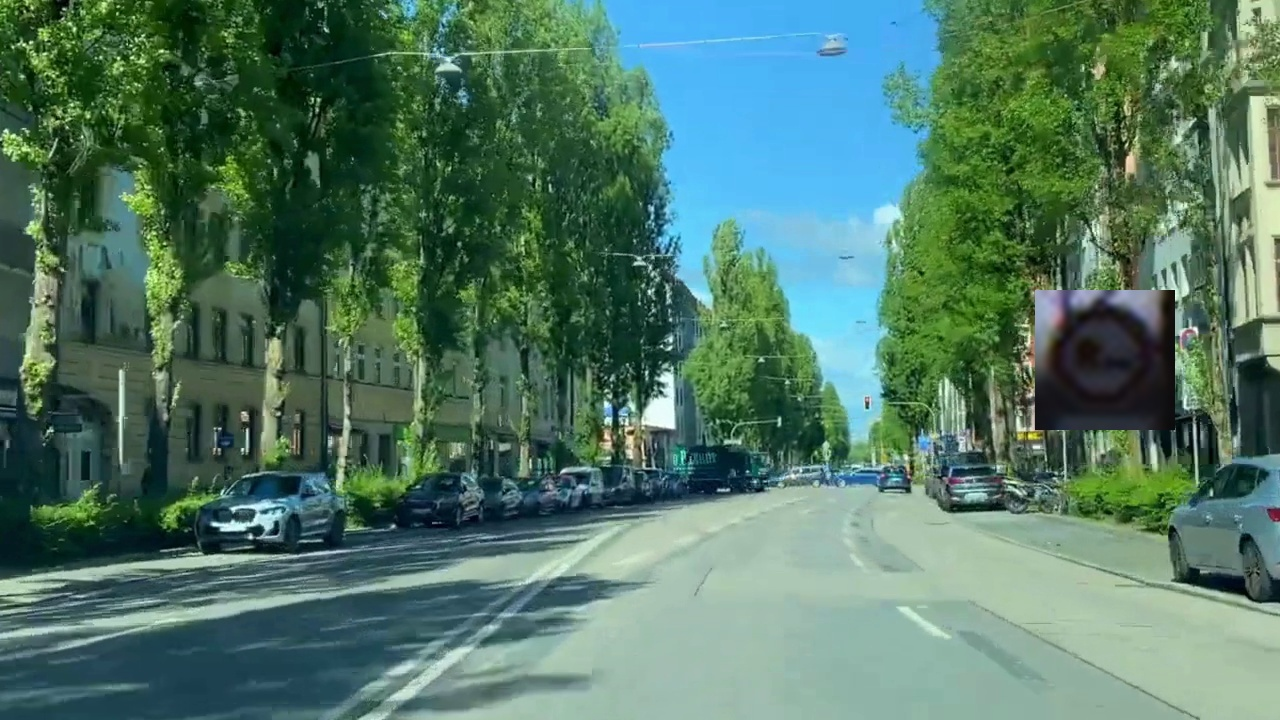No pass >3.5t: (1035, 290, 1175, 430)
